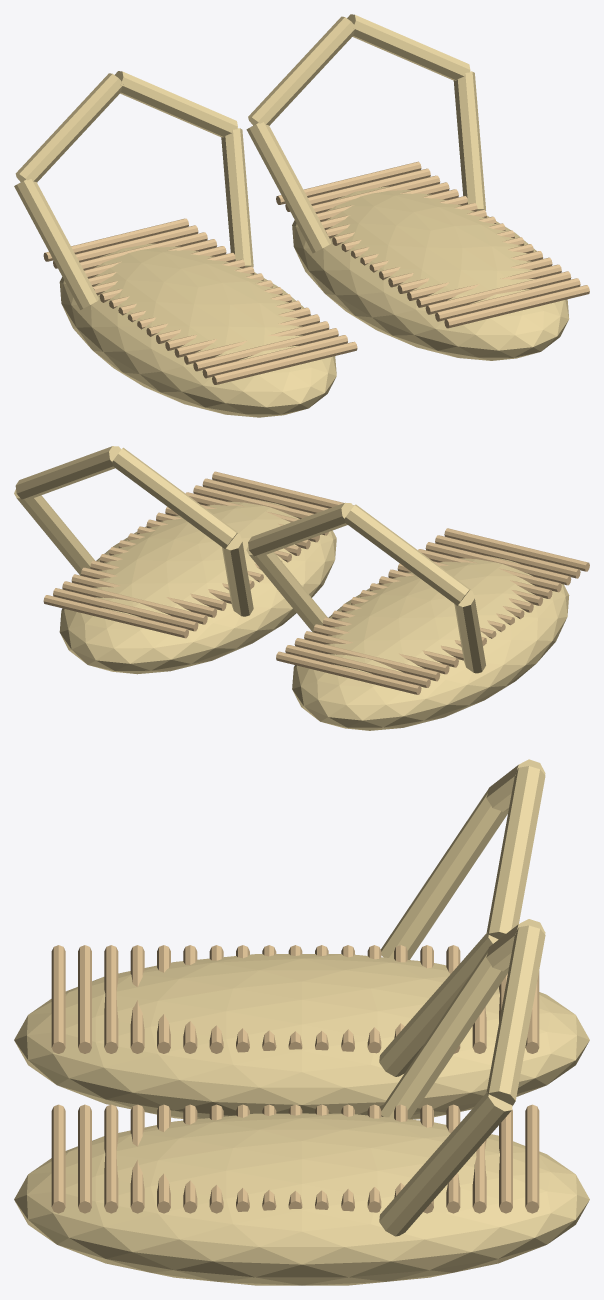
File: costume_waraji.glb
The picture shows the model from 3 angles, top to bottom: view 1: azimuth 30°, elevation 25°; view 2: azimuth 150°, elevation 25°; view 3: azimuth 270°, elevation 25°; orthographic projection. The views are drawn at different scales.
Visible parts, largest first — view 1: Straw waraji shoe sole.001, Straw waraji shoe sole, Woven waraji ankle tie_00, Woven waraji ankle tie_00.002, Woven waraji ankle tie_01.002, Woven waraji ankle tie_01, Woven waraji ankle tie_00.001, Woven waraji ankle tie_00.003, Woven waraji ankle tie_01.001, Woven waraji ankle tie_01.003, Individual rice-straw woven strand, Individual rice-straw woven strand.019 (+16 smaller); view 2: Straw waraji shoe sole, Straw waraji shoe sole.001, Woven waraji ankle tie_01, Woven waraji ankle tie_01.002, Woven waraji ankle tie_01.001, Woven waraji ankle tie_01.003, Woven waraji ankle tie_00.003, Woven waraji ankle tie_00.001, Woven waraji ankle tie_00, Woven waraji ankle tie_00.002, Individual rice-straw woven strand.018, Individual rice-straw woven strand.037 (+17 smaller); view 3: Straw waraji shoe sole.001, Straw waraji shoe sole, Woven waraji ankle tie_00, Woven waraji ankle tie_00.002, Woven waraji ankle tie_01.003, Woven waraji ankle tie_00.003, Woven waraji ankle tie_01.001, Woven waraji ankle tie_00.001, Individual rice-straw woven strand.019, Individual rice-straw woven strand.037, Individual rice-straw woven strand, Individual rice-straw woven strand.021 (+13 smaller).
Part boxes in pixels (left/top/right/bottom): Straw waraji shoe sole.001: left=292, top=186, right=569, bottom=360; Straw waraji shoe sole: left=59, top=243, right=336, bottom=417; Woven waraji ankle tie_00: left=14, top=179, right=98, bottom=309; Woven waraji ankle tie_00.002: left=246, top=122, right=330, bottom=253; Woven waraji ankle tie_01.002: left=248, top=16, right=356, bottom=125; Woven waraji ankle tie_01: left=15, top=73, right=123, bottom=182; Woven waraji ankle tie_00.001: left=221, top=128, right=253, bottom=267; Woven waraji ankle tie_00.003: left=453, top=71, right=485, bottom=210; Woven waraji ankle tie_01.001: left=115, top=71, right=237, bottom=137; Woven waraji ankle tie_01.003: left=347, top=14, right=470, bottom=80; Individual rice-straw woven strand: left=212, top=341, right=357, bottom=384; Individual rice-straw woven strand.019: left=444, top=285, right=589, bottom=328; Straw waraji shoe sole: left=292, top=555, right=569, bottom=730; Straw waraji shoe sole.001: left=59, top=499, right=336, bottom=674; Woven waraji ankle tie_01: left=344, top=504, right=470, bottom=605; Woven waraji ankle tie_01.002: left=112, top=447, right=237, bottom=548; Woven waraji ankle tie_01.001: left=248, top=502, right=353, bottom=556; Woven waraji ankle tie_01.003: left=15, top=446, right=121, bottom=499; Woven waraji ankle tie_00.003: left=14, top=489, right=95, bottom=575; Woven waraji ankle tie_00.001: left=246, top=546, right=327, bottom=632; Woven waraji ankle tie_00: left=454, top=590, right=485, bottom=673; Woven waraji ankle tie_00.002: left=222, top=533, right=253, bottom=616; Individual rice-straw woven strand.018: left=276, top=651, right=421, bottom=694; Individual rice-straw woven strand.037: left=43, top=595, right=188, bottom=638; Straw waraji shoe sole.001: left=14, top=1113, right=589, bottom=1285; Straw waraji shoe sole: left=14, top=954, right=589, bottom=1119; Woven waraji ankle tie_00: left=380, top=789, right=508, bottom=959; Woven waraji ankle tie_00.002: left=381, top=949, right=508, bottom=1119; Woven waraji ankle tie_01.003: left=486, top=925, right=545, bottom=1105; Woven waraji ankle tie_00.003: left=379, top=1091, right=512, bottom=1236; Woven waraji ankle tie_01.001: left=486, top=766, right=545, bottom=939; Woven waraji ankle tie_00.001: left=379, top=932, right=498, bottom=1076; Individual rice-straw woven strand.019: left=51, top=1104, right=65, bottom=1213; Individual rice-straw woven strand.037: left=525, top=1104, right=539, bottom=1213; Individual rice-straw woven strand: left=51, top=945, right=65, bottom=1053; Individual rice-straw woven strand.021: left=104, top=1104, right=118, bottom=1213.
Size of the model in its own units: 1.93 by 0.96 by 1.49.
